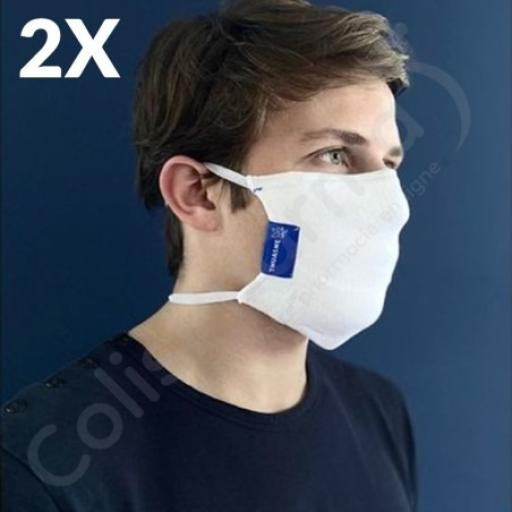mask: (248, 166, 428, 350)
